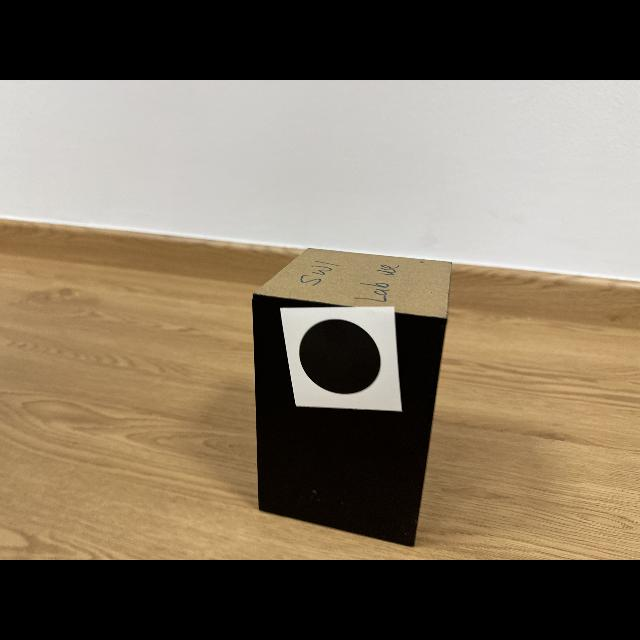CIRCLE: (299, 319, 380, 394)
